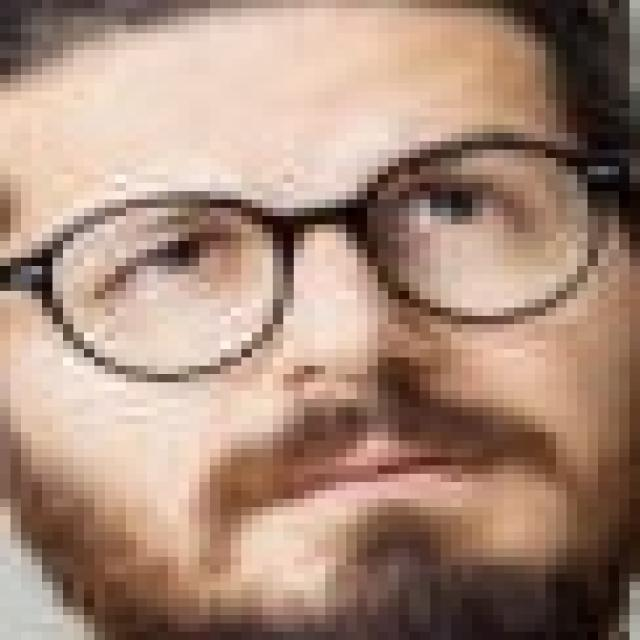Anxiety: (0, 0, 630, 632)
